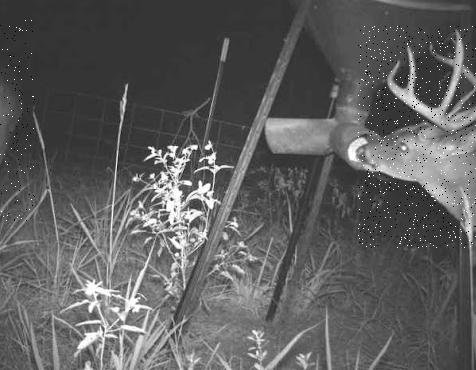Deer: (358, 26, 476, 248), (0, 19, 35, 222)
